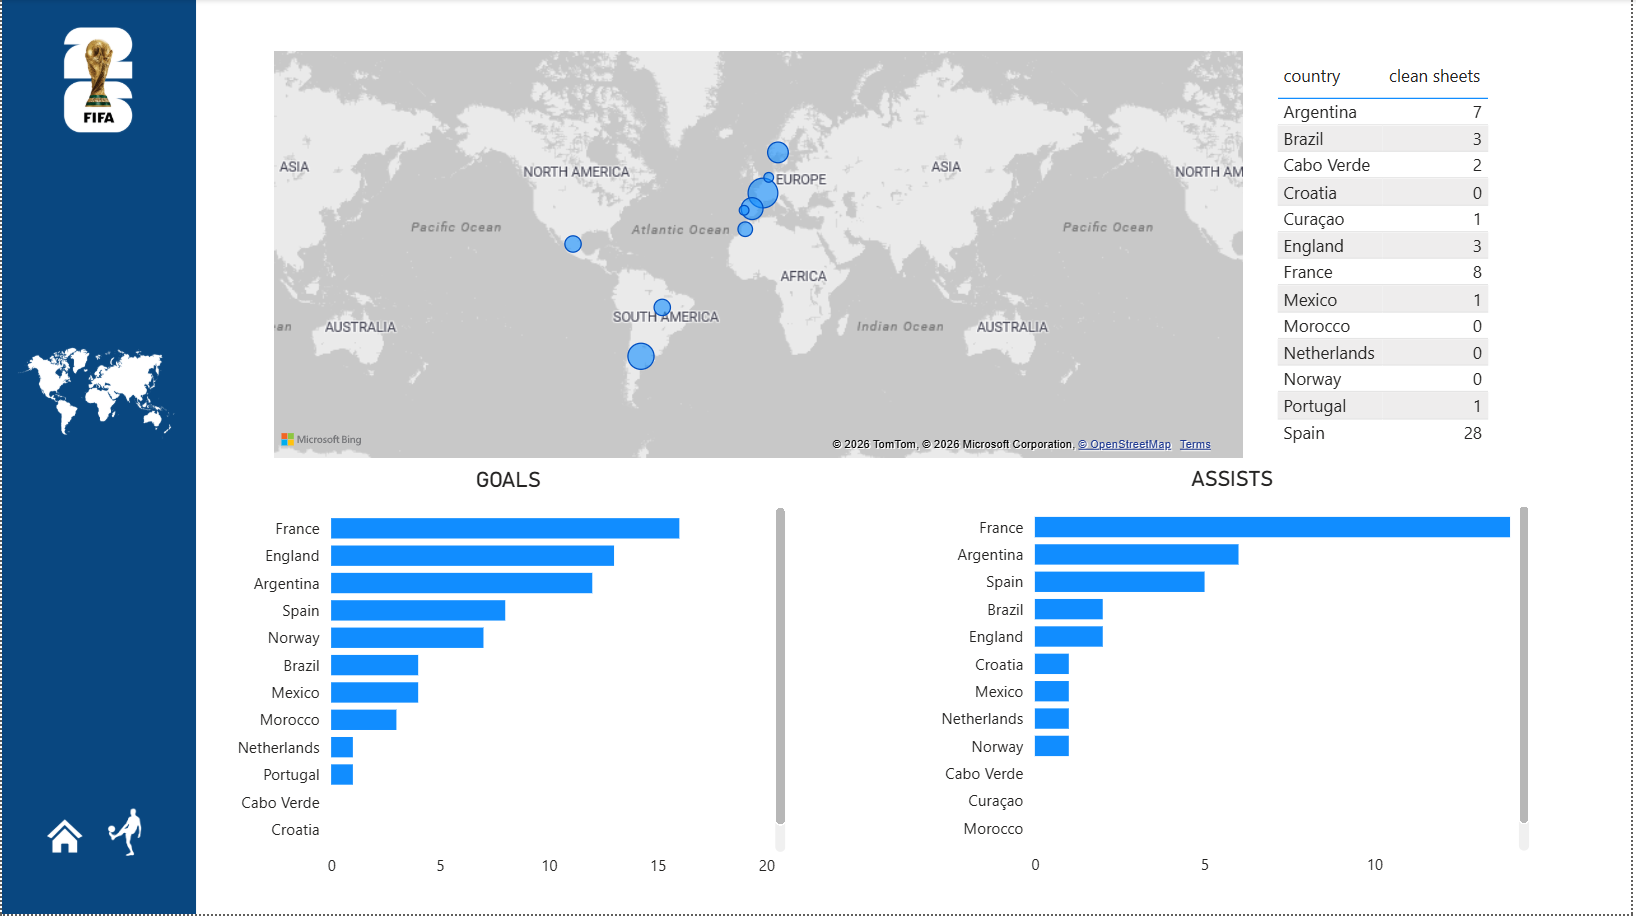

The dashboard page shown, as its layout file describes it:
{"tool":"powerbi","page":{"name":"Countries","canvas":[1280,720],"ordinal":3},"visuals":[{"type":"shape","box":[0,0,152.5,793.9],"z":0},{"type":"barChart","title":"GOALS","fields":{"Y":["players.Total Goals"],"Category":["players.country"]},"box":[175.3,367.8,446.1,332.1],"z":1000},{"type":"map","title":"GOALS BY COUNTRIES","fields":{"Category":["players.country"],"Size":["players.Total Goals"]},"box":[209.5,17.1,771.1,349.2],"z":2000},{"type":"image","box":[34.2,0,82.7,126.9],"z":3000},{"type":"tableEx","title":"CLEAN SHEETS","fields":{"Values":["players.country","Sum(statitics.CS)"]},"box":[996.3,44.2,178.2,316.4],"z":4000},{"type":"clusteredBarChart","title":"ASSISTS","fields":{"Category":["players.country"],"Y":["players.Total Assists"]},"box":[728.4,366.3,477.5,332.1],"z":5000},{"type":"image","box":[0,202.4,152.5,209.5],"z":6000},{"type":"image","box":[35.6,636.3,28.2,42.9],"z":7000},{"type":"image","box":[75.5,635.7,41.3,38.5],"z":8000}]}

Visuals, with their boxes on the page's 1280x720 design canvas (x1, y1, x2, y2). These are canvas units, not pixel positions in the 1636x917 screenshot, which may show the page scaled, cropped or inside an application window:
shape: 0 0 152 794
"GOALS" barChart: 175 368 621 700
"GOALS BY COUNTRIES" map: 210 17 981 366
image: 34 0 117 127
"CLEAN SHEETS" tableEx: 996 44 1174 361
"ASSISTS" clusteredBarChart: 728 366 1206 698
image: 0 202 152 412
image: 36 636 64 679
image: 76 636 117 674
